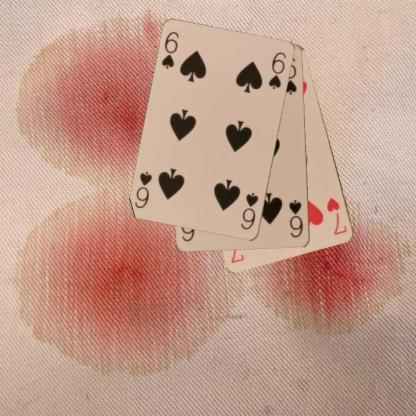6s: (239, 190, 260, 231), (159, 29, 180, 70), (286, 197, 304, 239)
7h: (324, 195, 349, 236)
